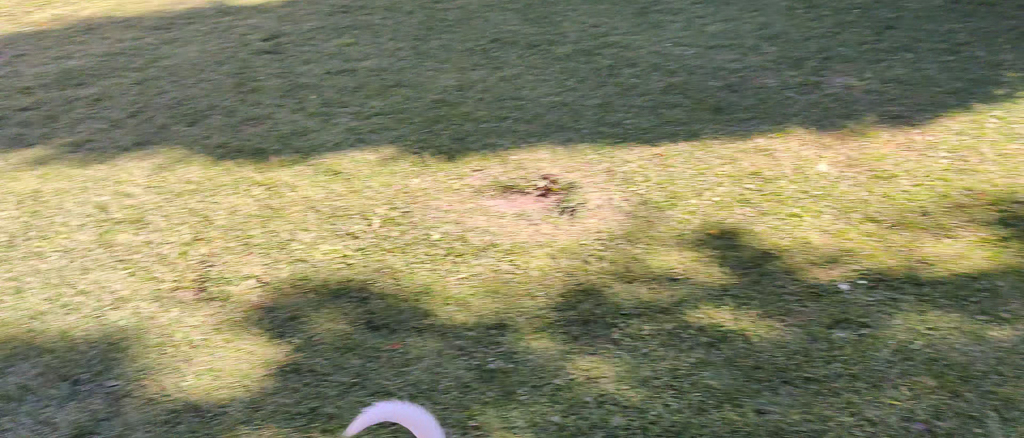Dog: (327, 388, 459, 438)
